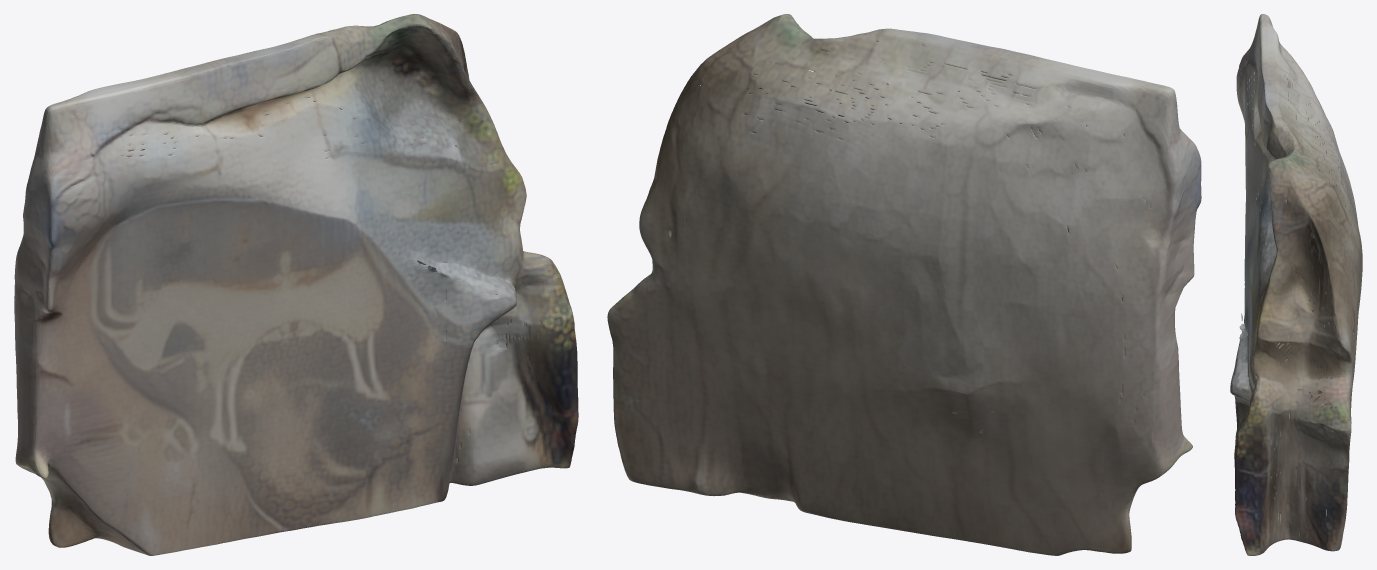
File: Tamgaly.glb
3 views of the same model, side by side, from view 1: azimuth 30°, elevation 25°; view 2: azimuth 150°, elevation 25°; view 3: azimuth 270°, elevation 25° (orthographic). The views are drawn at different scales.
Visible parts, largest first — view 1: A_Textured_3D_Model_of_a_Rock; view 2: A_Textured_3D_Model_of_a_Rock; view 3: A_Textured_3D_Model_of_a_Rock.
Boxes of the visible parts, left/top/right/bottom form: A_Textured_3D_Model_of_a_Rock: left=14, top=14, right=578, bottom=555; A_Textured_3D_Model_of_a_Rock: left=607, top=14, right=1201, bottom=555; A_Textured_3D_Model_of_a_Rock: left=1230, top=14, right=1362, bottom=555.
Bounding box in the file's own units: 0.9988 × 0.8673 × 0.2915.
